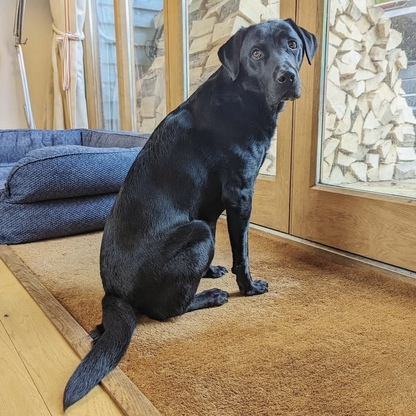labrado: (54, 15, 320, 414)
